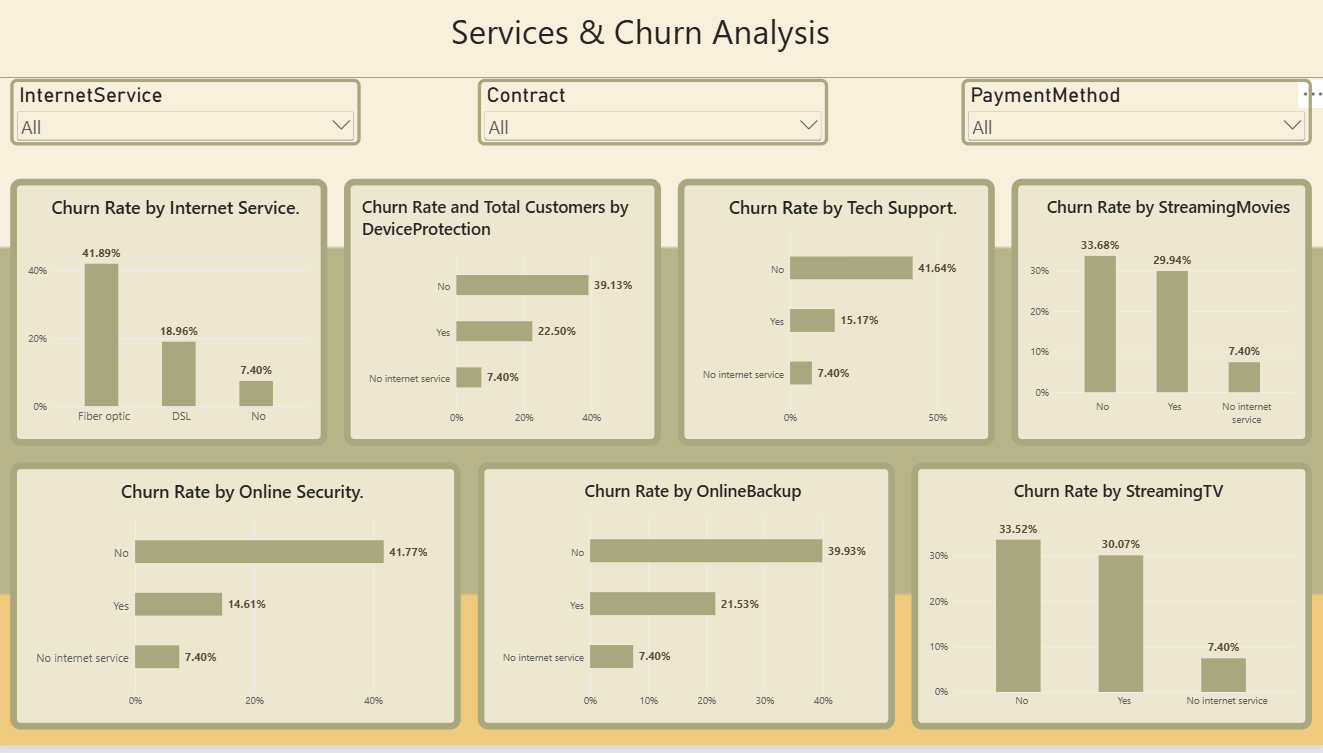

Layout of this report page (visuals, bound fields, positions):
{"tool":"powerbi","page":{"name":"Services & Churn Analysis","canvas":[1920,1080],"ordinal":3},"visuals":[{"type":"textbox","box":[0,0,1920,120],"z":0},{"type":"slicer","fields":{"Values":["CustomerChurn.InternetService"]},"box":[24,120,504,96],"z":1},{"type":"slicer","fields":{"Values":["CustomerChurn.Contract"]},"box":[696,120,504,96],"z":2},{"type":"slicer","fields":{"Values":["CustomerChurn.PaymentMethod"]},"box":[1392,120,504,96],"z":3},{"type":"clusteredColumnChart","title":"Churn Rate by Internet Service.","fields":{"Category":["CustomerChurn.InternetService"],"Y":["Measure.Churn Rate"]},"box":[24,264,456,384],"z":4},{"type":"clusteredBarChart","title":"Churn Rate by Online Security.","fields":{"Category":["CustomerChurn.OnlineSecurity"],"Y":["Measure.Churn Rate"]},"box":[24,672,648,384],"z":5},{"type":"clusteredBarChart","title":"Churn Rate by Tech Support.","fields":{"Category":["CustomerChurn.TechSupport"],"Y":["Measure.Churn Rate"]},"box":[984,264,456,384],"z":6},{"type":"clusteredBarChart","title":"Churn Rate by OnlineBackup","fields":{"Category":["CustomerChurn.OnlineBackup"],"Y":["Measure.Churn Rate"]},"box":[696,672,600,384],"z":7},{"type":"clusteredBarChart","fields":{"Category":["CustomerChurn.DeviceProtection"],"Y":["Measure.Churn Rate"]},"box":[504,264,456,384],"z":8},{"type":"clusteredColumnChart","title":"Churn Rate by StreamingMovies","fields":{"Category":["CustomerChurn.StreamingMovies"],"Y":["Measure.Churn Rate"]},"box":[1464,264,432,384],"z":9},{"type":"clusteredColumnChart","title":"Churn Rate by StreamingTV","fields":{"Category":["CustomerChurn.StreamingTV"],"Y":["Measure.Churn Rate"]},"box":[1320,672,576,384],"z":10}]}

Visuals, with their boxes in screenshot pixels (x1, y1, x2, y2), scaled from the page's 1920x1080 canvas onto the 1323x753 screenshot:
textbox: BBox(0, 0, 1322, 84)
slicer - CustomerChurn.InternetService: BBox(17, 84, 364, 151)
slicer - CustomerChurn.Contract: BBox(480, 84, 827, 151)
slicer - CustomerChurn.PaymentMethod: BBox(959, 84, 1306, 151)
"Churn Rate by Internet Service." clusteredColumnChart: BBox(17, 184, 331, 452)
"Churn Rate by Online Security." clusteredBarChart: BBox(17, 469, 463, 736)
"Churn Rate by Tech Support." clusteredBarChart: BBox(678, 184, 992, 452)
"Churn Rate by OnlineBackup" clusteredBarChart: BBox(480, 469, 893, 736)
clusteredBarChart - CustomerChurn.DeviceProtection x Measure.Churn Rate: BBox(347, 184, 662, 452)
"Churn Rate by StreamingMovies" clusteredColumnChart: BBox(1009, 184, 1306, 452)
"Churn Rate by StreamingTV" clusteredColumnChart: BBox(910, 469, 1306, 736)
